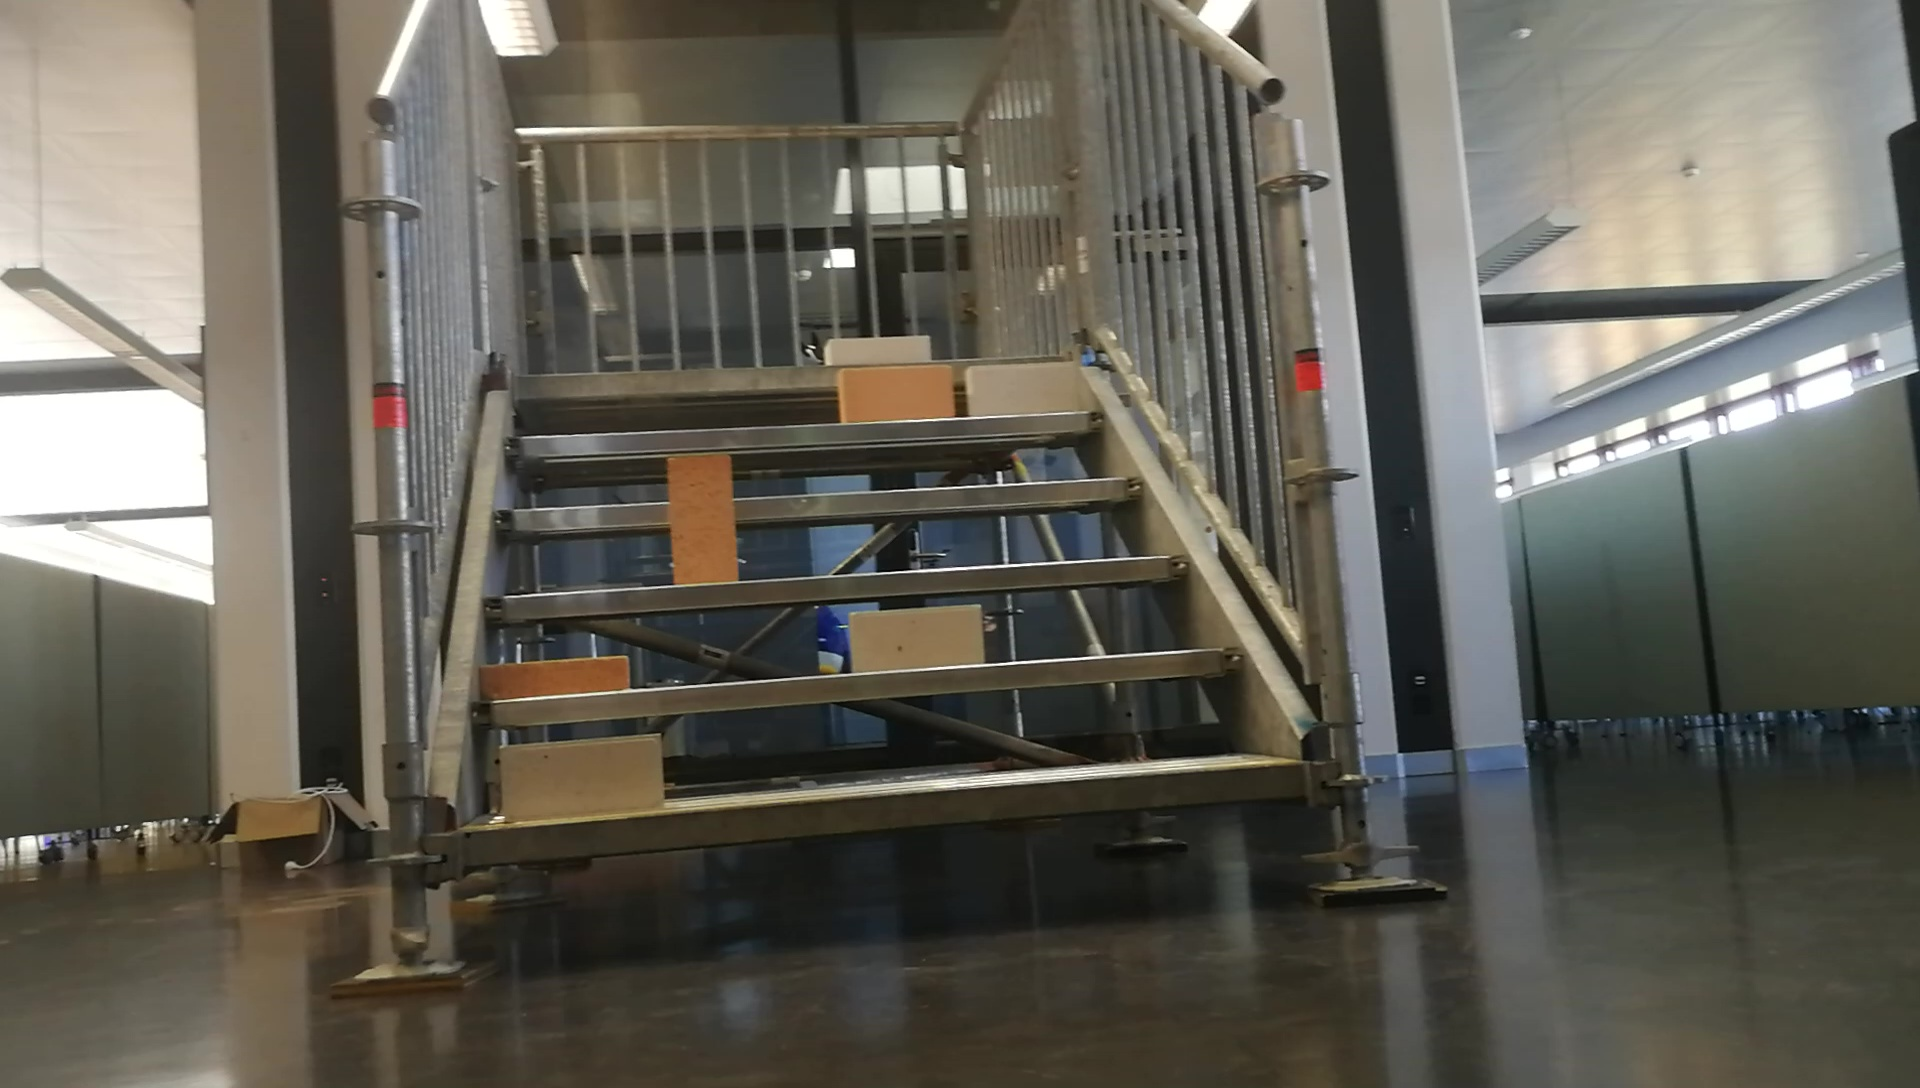brick: (498, 735, 661, 818), (848, 603, 982, 673), (667, 450, 735, 580), (483, 651, 622, 698), (840, 365, 953, 418), (969, 365, 1075, 413), (823, 335, 926, 360)
edge: (460, 760, 1305, 870), (468, 648, 1250, 723), (489, 553, 1189, 622), (491, 473, 1141, 528), (505, 408, 1112, 458)
stairs: (328, 0, 1452, 988)
steps: (435, 327, 1337, 893)
